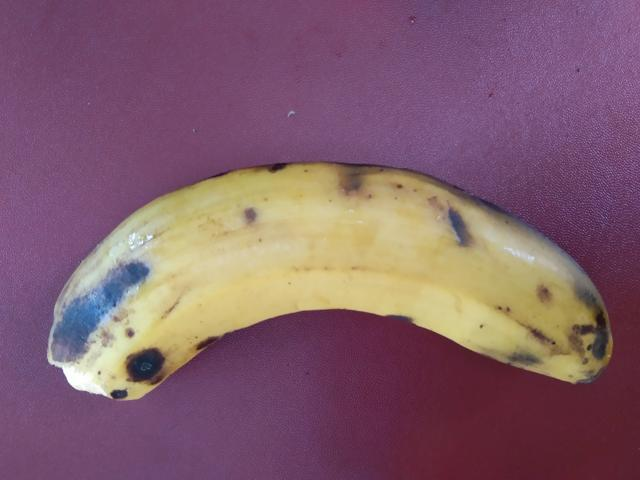ripe: (26, 148, 625, 477)
